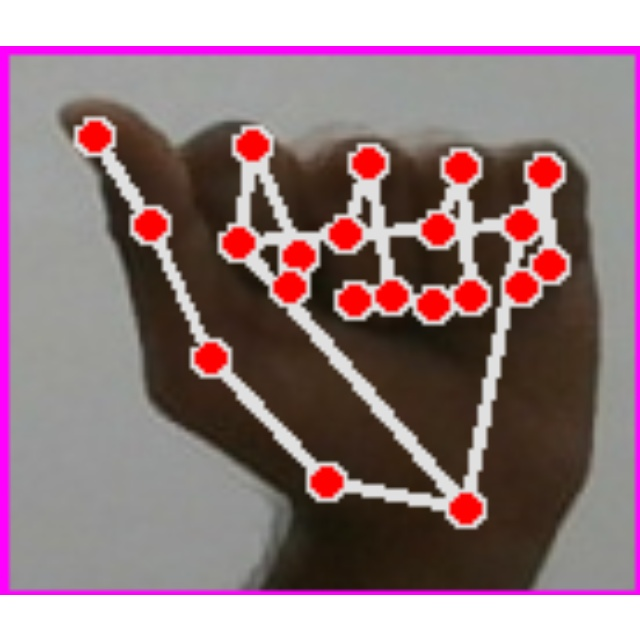A: (0, 46, 640, 595)
